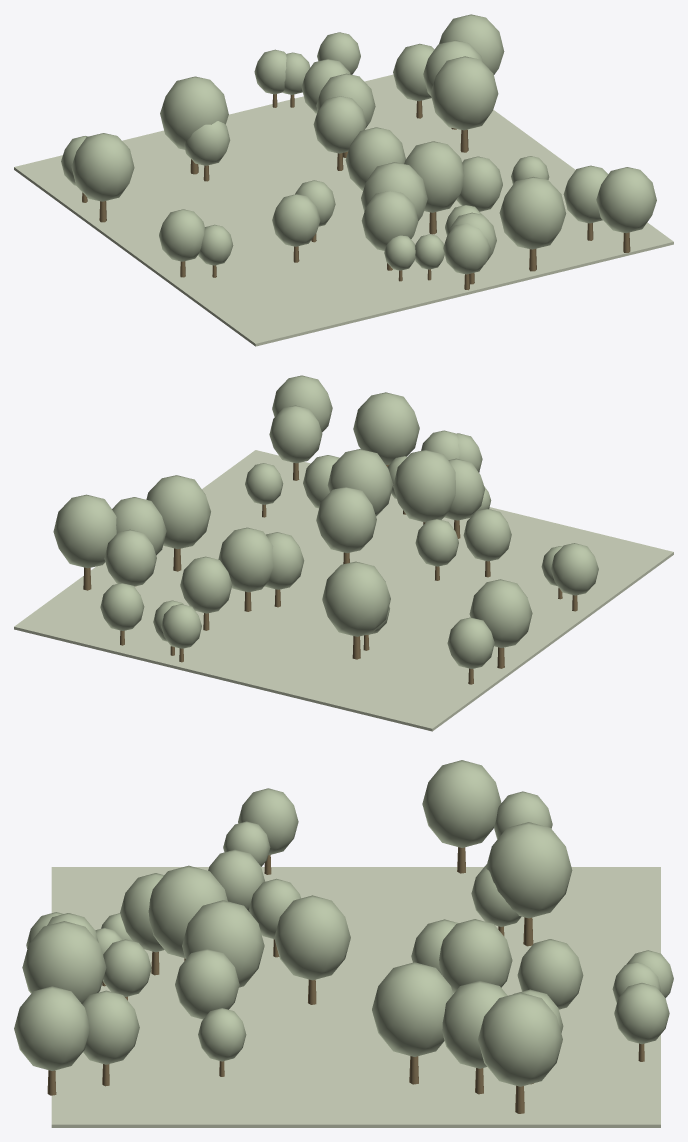
The picture shows the model from 3 angles, top to bottom: view 1: azimuth 30°, elevation 25°; view 2: azimuth 150°, elevation 25°; view 3: azimuth 270°, elevation 25°; orthographic projection. The views are drawn at different scales.
Visible parts, largest first — view 1: terrain, lod-near-28, lod-near-8, lod-near-13, lod-near-7, lod-near-31, lod-near-24, lod-near-9, lod-near-14, lod-near-27, lod-near-12, lod-near-2 (+20 smaller); view 2: terrain, lod-near-7, lod-near-2, lod-near-12, lod-near-8, lod-near-28, lod-near-14, lod-near-13, lod-near-11, lod-near-24, lod-near-30, lod-near-17 (+15 smaller); view 3: terrain, lod-near-12, lod-near-7, lod-near-28, lod-near-13, lod-near-14, lod-near-31, lod-near-8, lod-near-24, lod-near-2, lod-near-11, lod-near-19 (+16 smaller).
Boxes of the visible parts, left/top/right/bottom form: terrain: left=14, top=74, right=673, bottom=346; lod-near-28: left=430, top=56, right=498, bottom=130; lod-near-8: left=499, top=177, right=566, bottom=249; lod-near-13: left=71, top=133, right=134, bottom=201; lod-near-7: left=160, top=76, right=228, bottom=149; lod-near-31: left=596, top=167, right=656, bottom=233; lod-near-24: left=404, top=141, right=464, bottom=212; lod-near-9: left=361, top=191, right=418, bottom=250; lod-near-14: left=345, top=127, right=405, bottom=190; lod-near-27: left=313, top=96, right=366, bottom=153; lod-near-12: left=439, top=14, right=504, bottom=74; lod-near-2: left=361, top=162, right=427, bottom=220; terrain: left=14, top=450, right=673, bottom=731; lod-near-7: left=322, top=561, right=390, bottom=636; lod-near-2: left=393, top=450, right=455, bottom=522; lod-near-12: left=53, top=494, right=116, bottom=568; lod-near-8: left=353, top=392, right=419, bottom=464; lod-near-28: left=146, top=475, right=210, bottom=549; lod-near-14: left=316, top=487, right=376, bottom=553; lod-near-13: left=469, top=579, right=532, bottom=647; lod-near-11: left=218, top=527, right=273, bottom=592; lod-near-24: left=327, top=449, right=393, bottom=516; lod-near-30: left=269, top=405, right=322, bottom=463; lod-near-17: left=104, top=529, right=156, bottom=586; terrain: left=51, top=867, right=660, bottom=1127; lod-near-12: left=478, top=992, right=562, bottom=1086; lod-near-7: left=486, top=822, right=572, bottom=918; lod-near-28: left=372, top=962, right=453, bottom=1056; lod-near-13: left=422, top=760, right=501, bottom=847; lod-near-14: left=274, top=895, right=350, bottom=980; lod-near-31: left=14, top=986, right=89, bottom=1070; lod-near-8: left=22, top=921, right=106, bottom=1003; lod-near-24: left=182, top=900, right=264, bottom=987; lod-near-2: left=148, top=865, right=227, bottom=957; lod-near-11: left=439, top=919, right=512, bottom=993; lod-near-19: left=175, top=949, right=239, bottom=1019.
Bounding box in the file's own units: 34.2 × 7.21 × 34.67.
